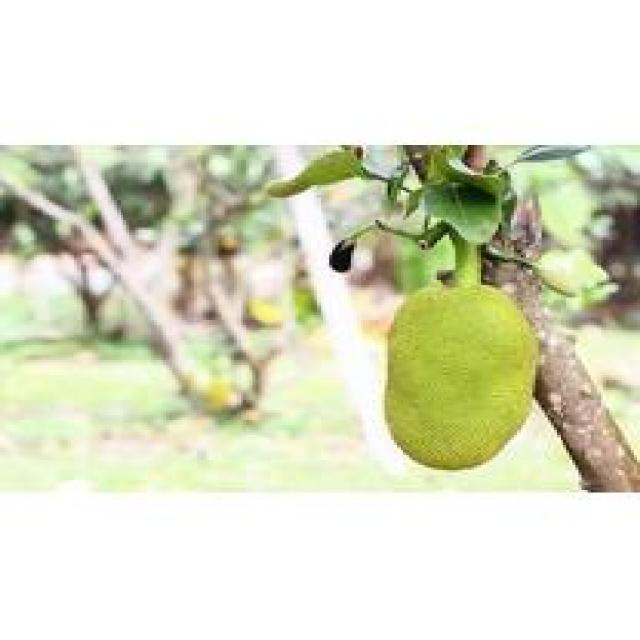Fruit: (354, 255, 563, 483)
